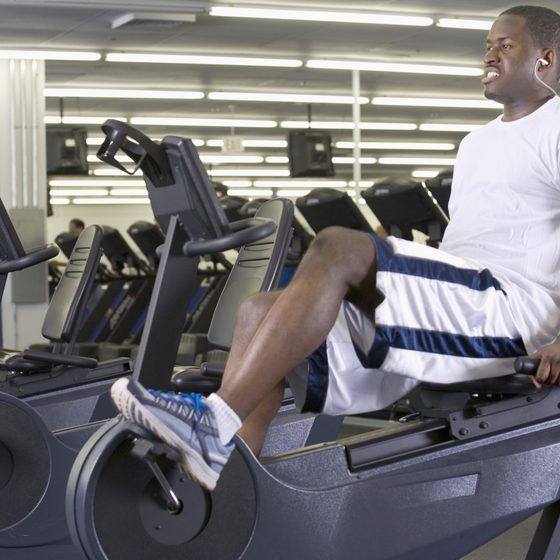gym_bike: (90, 129, 341, 560)
